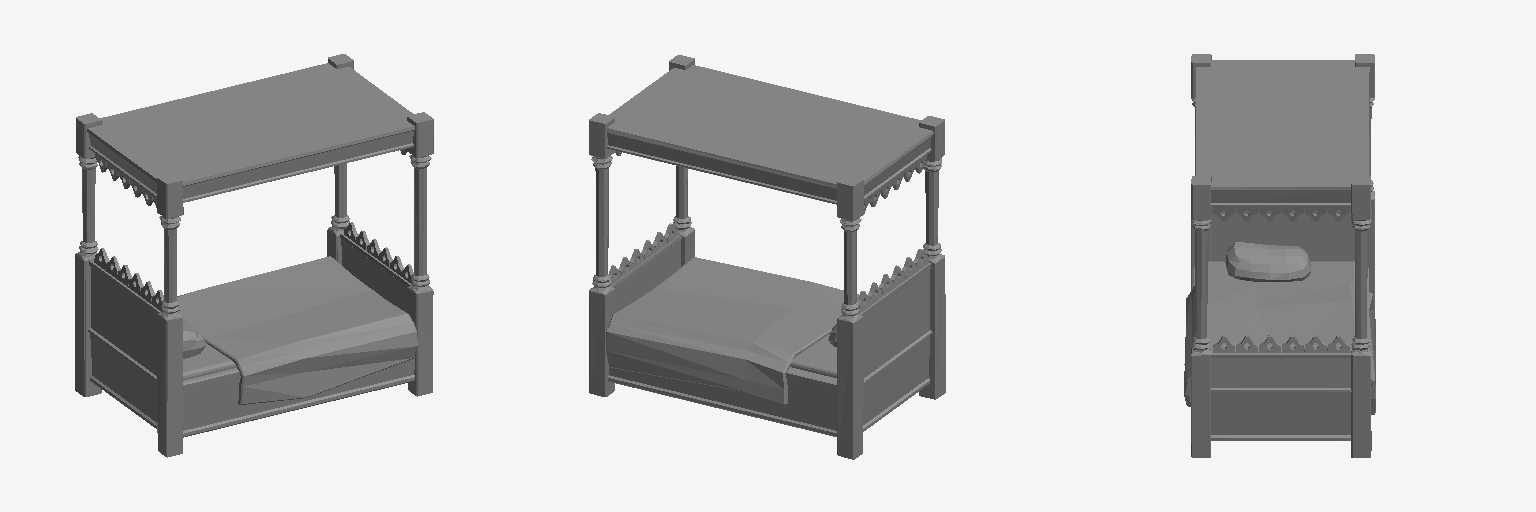
The model's file is Bed_A.obj.
3 renders of one model, left to right at view 1: azimuth 30°, elevation 25°; view 2: azimuth 150°, elevation 25°; view 3: azimuth 270°, elevation 25°, orthographic.
Visible parts, largest first — view 1: Bed_A; view 2: Bed_A; view 3: Bed_A.
Boxes of the visible parts, x1,y1,x2,y2 form: Bed_A: [75, 54, 433, 457]; Bed_A: [589, 55, 945, 459]; Bed_A: [1184, 54, 1375, 457].
Size of the model in its own units: 230 by 223 by 143.